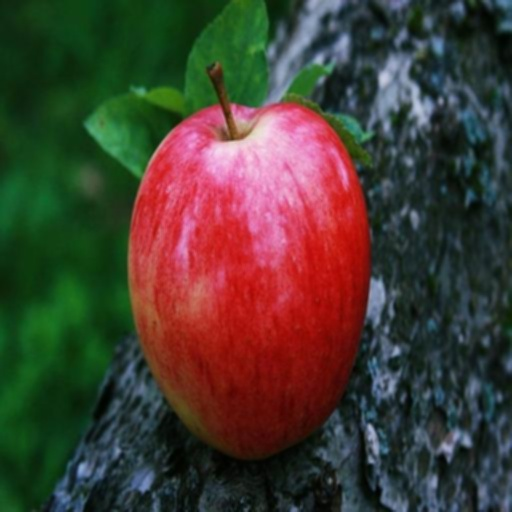fruit: (288, 120, 448, 491), (72, 40, 370, 113), (221, 93, 224, 95)
